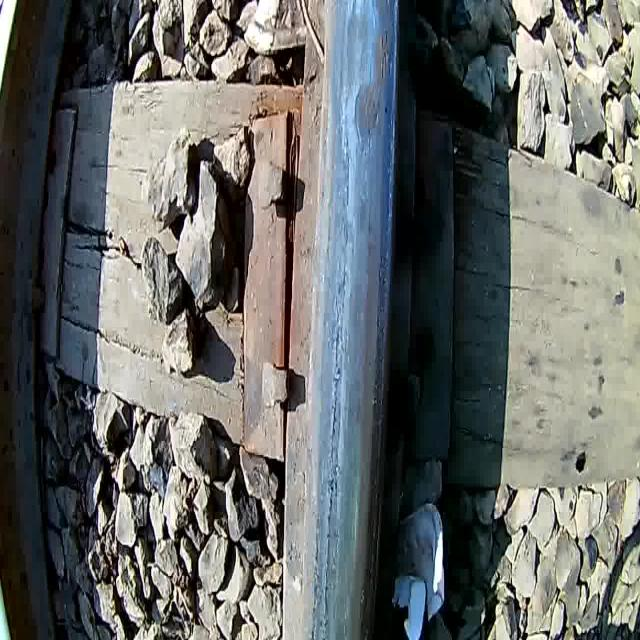Squats: (294, 0, 417, 640)
